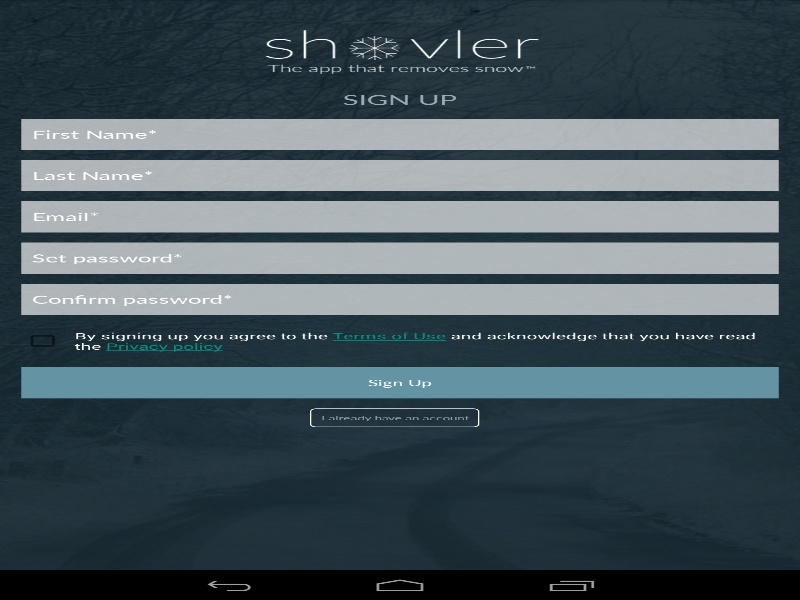Button: (21, 367, 778, 398), (310, 408, 479, 427)
Input: (21, 118, 778, 150), (21, 283, 778, 315), (21, 160, 778, 191), (21, 201, 778, 232), (21, 242, 778, 273)
